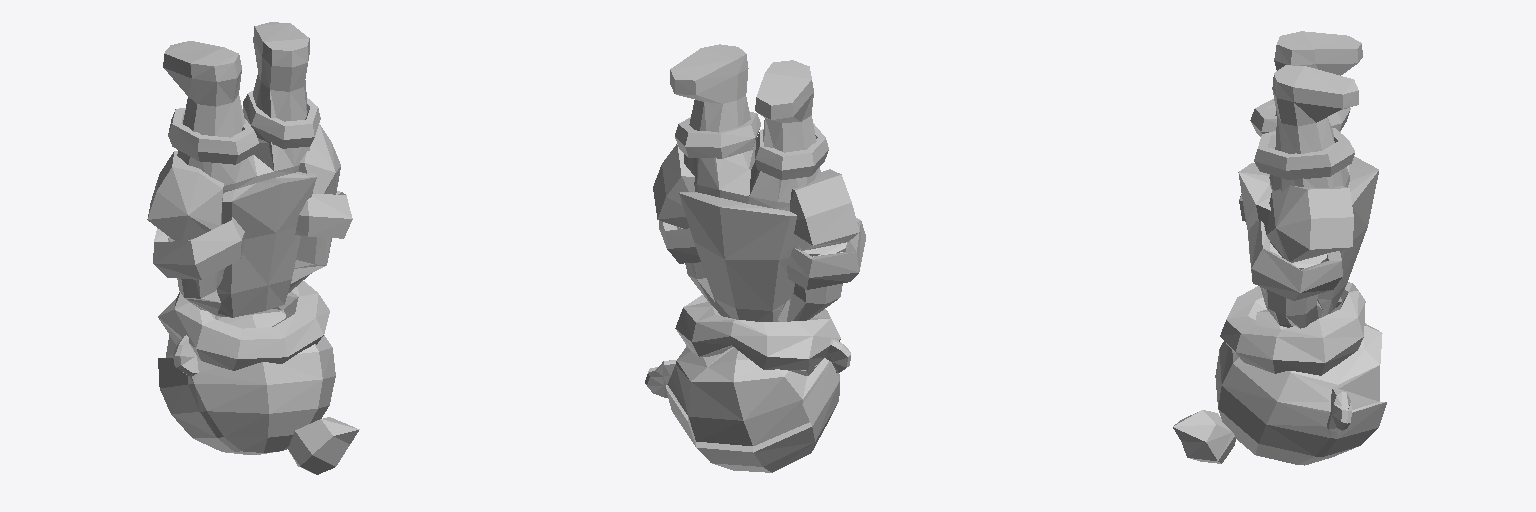
The model's file is eikastanding_000166.obj.
3 renders of one model, left to right at view 1: azimuth 30°, elevation 25°; view 2: azimuth 150°, elevation 25°; view 3: azimuth 270°, elevation 25°, orthographic.
Visible parts, largest first — view 1: Cylinder; view 2: Cylinder; view 3: Cylinder.
Part boxes in pixels (bbox=[...]): Cylinder: bbox=[147, 22, 359, 474]; Cylinder: bbox=[645, 44, 865, 472]; Cylinder: bbox=[1173, 31, 1386, 465].
Bounding box in the file's own units: 26.47 × 50.61 × 24.63.